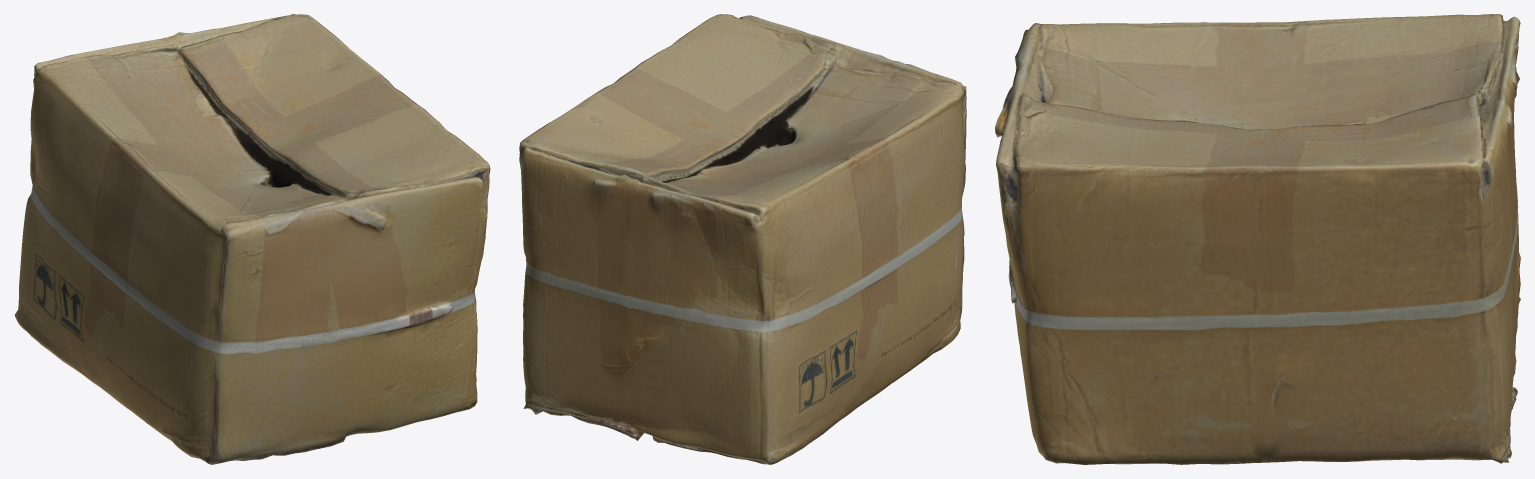
File: cardboard_box_01_4k.fbx
3 views of the same model, side by side, from view 1: azimuth 30°, elevation 25°; view 2: azimuth 150°, elevation 25°; view 3: azimuth 270°, elevation 25° (orthographic). The views are drawn at different scales.
Parts seen in each view (by area): view 1: cardboard_box_01; view 2: cardboard_box_01; view 3: cardboard_box_01.
Boxes of the visible parts, x1,y1,x2,y2 form: cardboard_box_01: (14,14,490,464); cardboard_box_01: (519,14,966,464); cardboard_box_01: (995,14,1520,464).
Size of the model in its own units: 38.7 by 34.18 by 51.59.
1 material, 1 textured.
